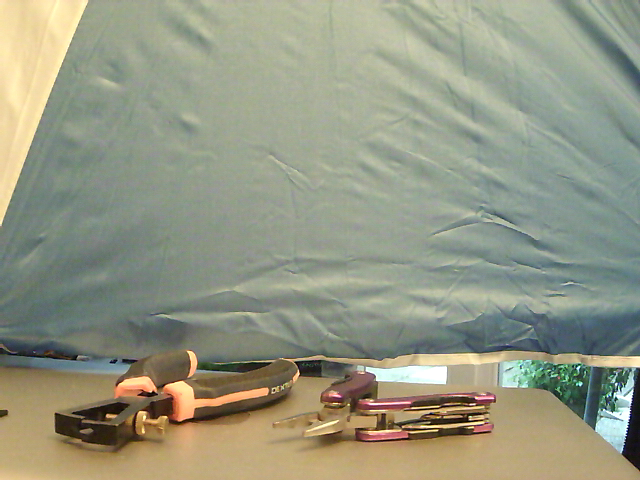pliers: (270, 367, 500, 445)
